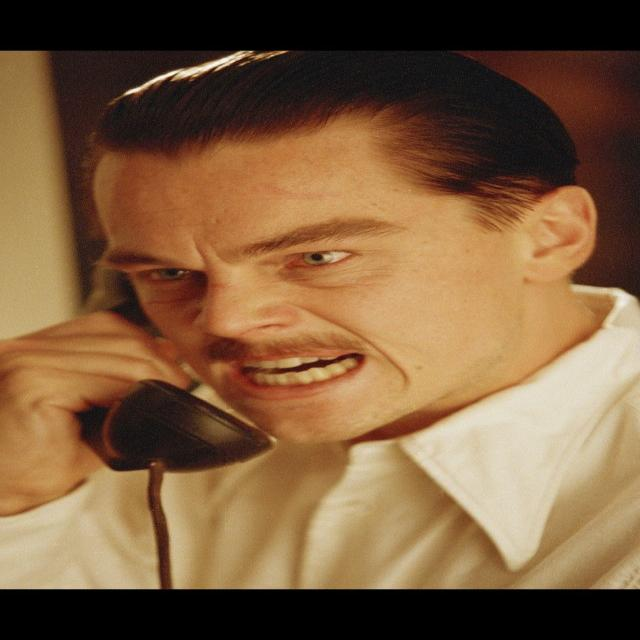sem_oculos: (96, 188, 598, 304)
